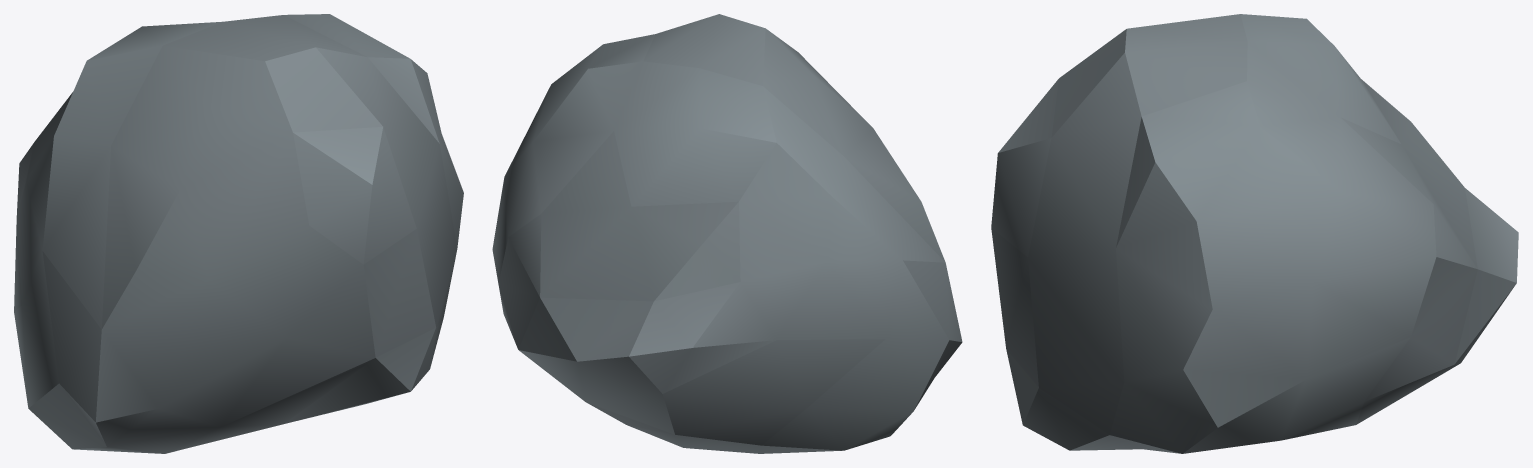
The model's file is Rock_3_K.glb.
3 renders of one model, left to right at view 1: azimuth 30°, elevation 25°; view 2: azimuth 150°, elevation 25°; view 3: azimuth 270°, elevation 25°, orthographic. The views are drawn at different scales.
Parts seen in each view (by area): view 1: Rock_3_K_Color1; view 2: Rock_3_K_Color1; view 3: Rock_3_K_Color1.
Boxes of the visible parts, x1=… form: Rock_3_K_Color1: x1=14, y1=14, x2=463, y2=453; Rock_3_K_Color1: x1=492, y1=14, x2=962, y2=453; Rock_3_K_Color1: x1=991, y1=14, x2=1518, y2=453.
Bounding box in the file's own units: 2.61 × 2.22 × 2.59.
Materials: 1 (1 with a texture image).
